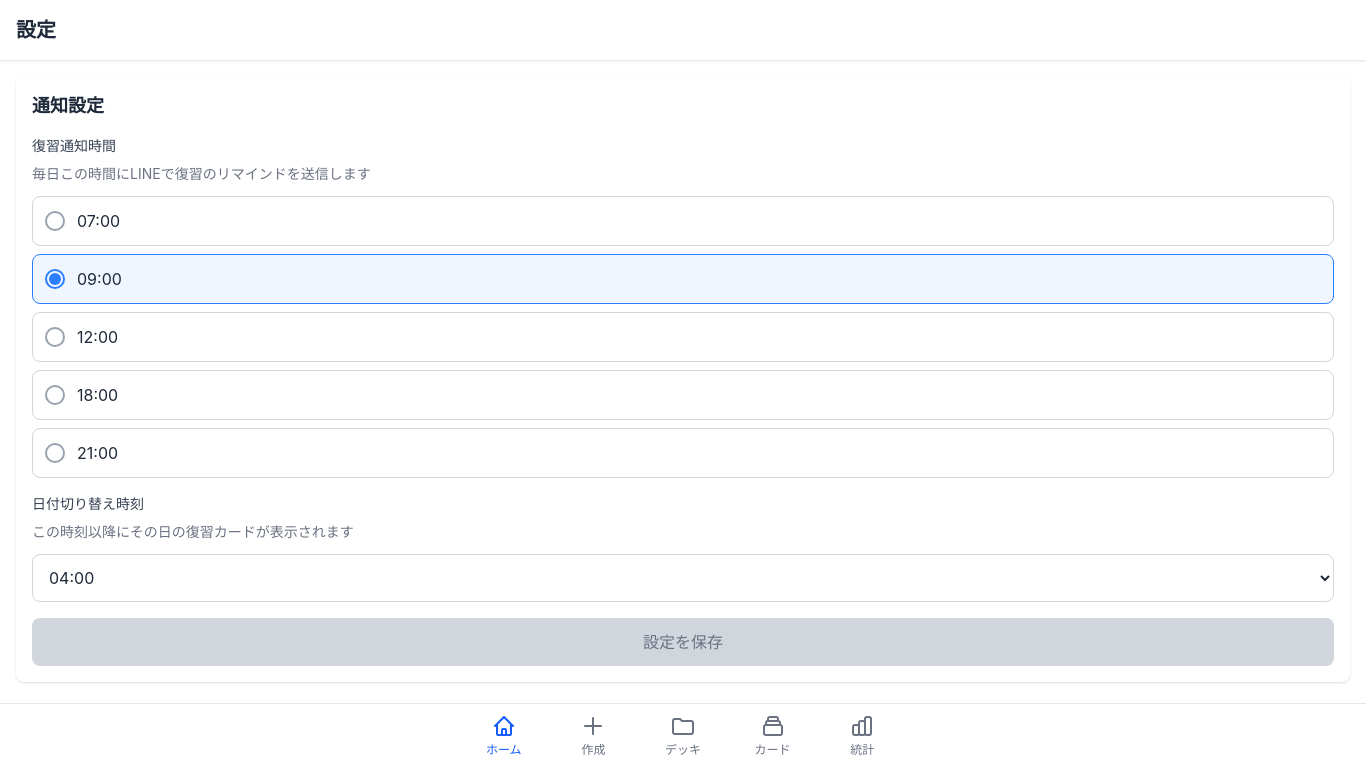
Test: SettingsPage › テストケース3: 設定の保存 › 保存成功時に成功メッセージが表示される
The width and height of the screenshot is (1366, 768).
Expected: the heading "設定" is shown, [16, 18, 56, 42]
Click the radio button with test id "time-option-18:00" at (98, 395), box [32, 370, 1334, 420]
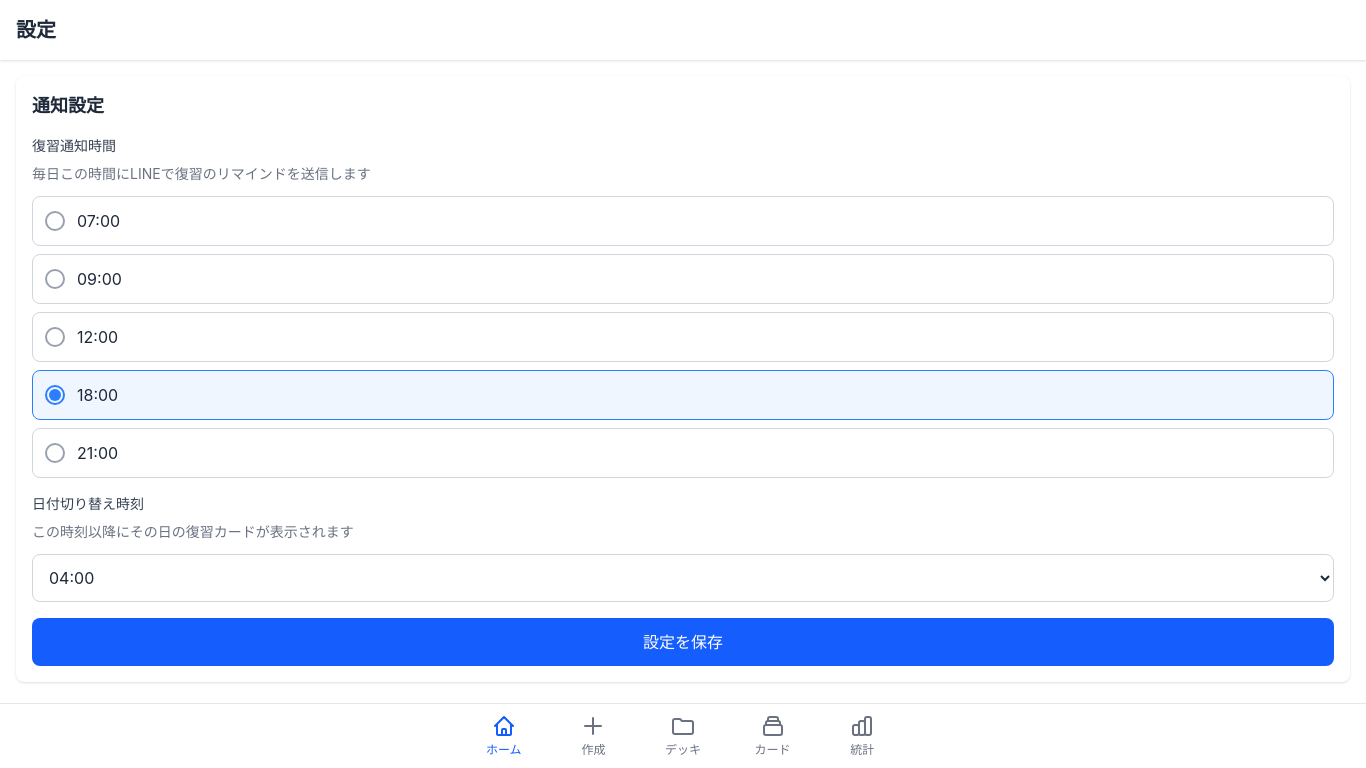
Click the button with test id "save-button" at (683, 642), box [32, 618, 1334, 666]
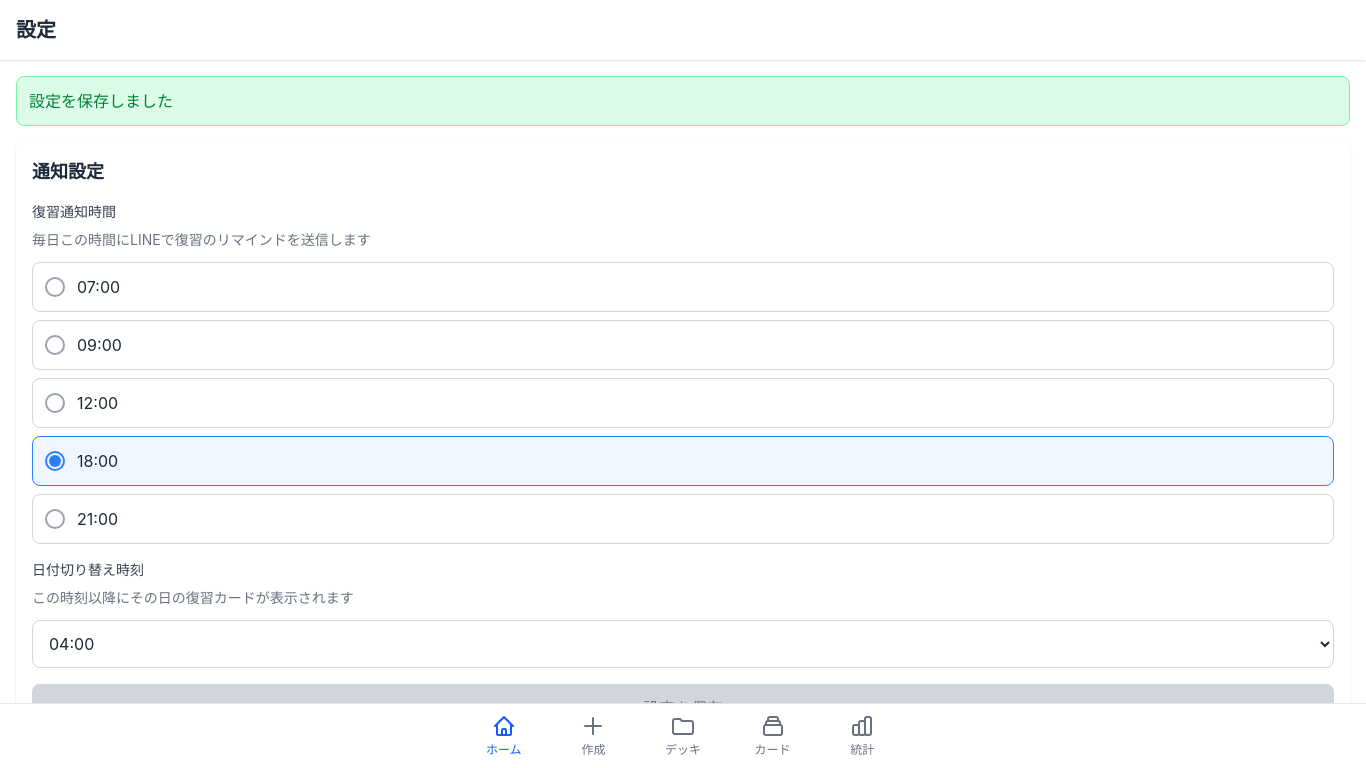
Expected: the text with test id "success-message" reads "設定を保存しました", [29, 91, 173, 111]
